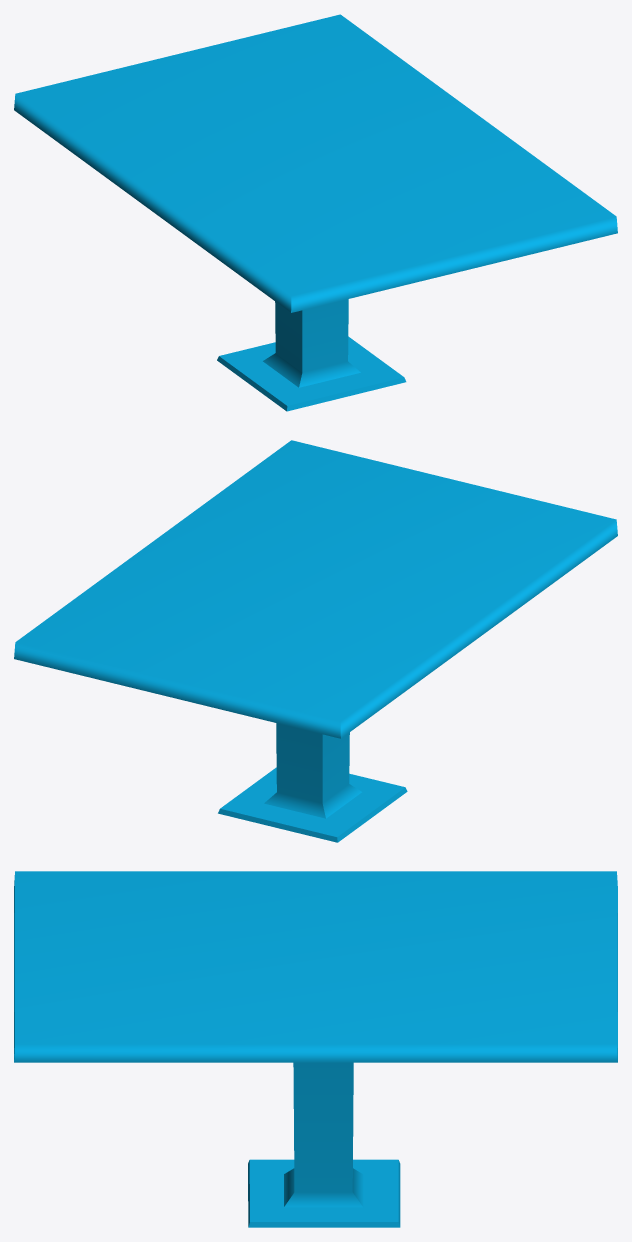
The model's file is Restaurant_Table_01B_Lod2.fbx.
The picture shows the model from 3 angles, top to bottom: view 1: azimuth 30°, elevation 25°; view 2: azimuth 150°, elevation 25°; view 3: azimuth 270°, elevation 25°; orthographic projection. The views are drawn at different scales.
Visible parts, largest first — view 1: Restaurant_Table_01B_Lod2; view 2: Restaurant_Table_01B_Lod2; view 3: Restaurant_Table_01B_Lod2.
Boxes of the visible parts, x1,y1,x2,y2 form: Restaurant_Table_01B_Lod2: (14, 14, 617, 411); Restaurant_Table_01B_Lod2: (14, 440, 617, 842); Restaurant_Table_01B_Lod2: (14, 871, 617, 1227).
Bounding box in the file's own units: 120 × 76.82 × 176.
